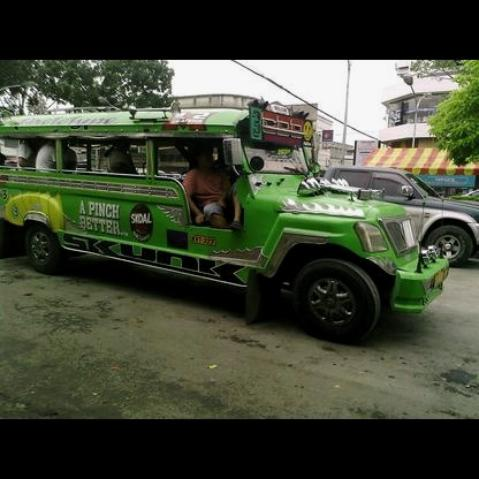jeepney: (0, 97, 449, 339)
